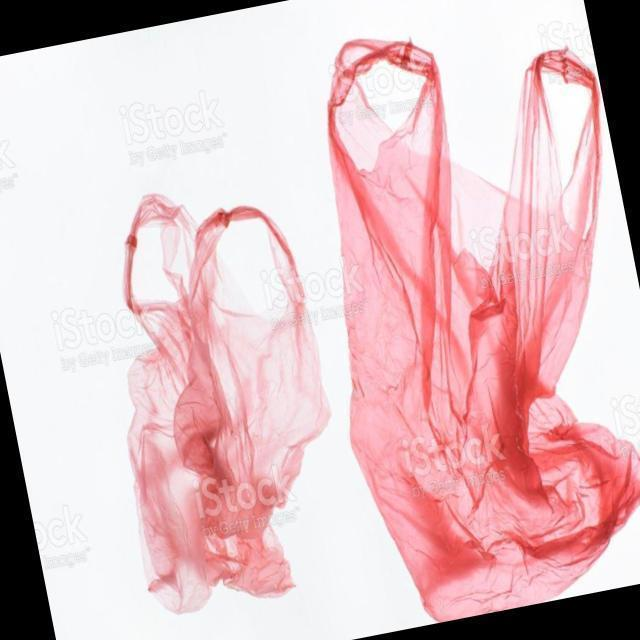Plastic_Bag: (77, 164, 360, 624)
